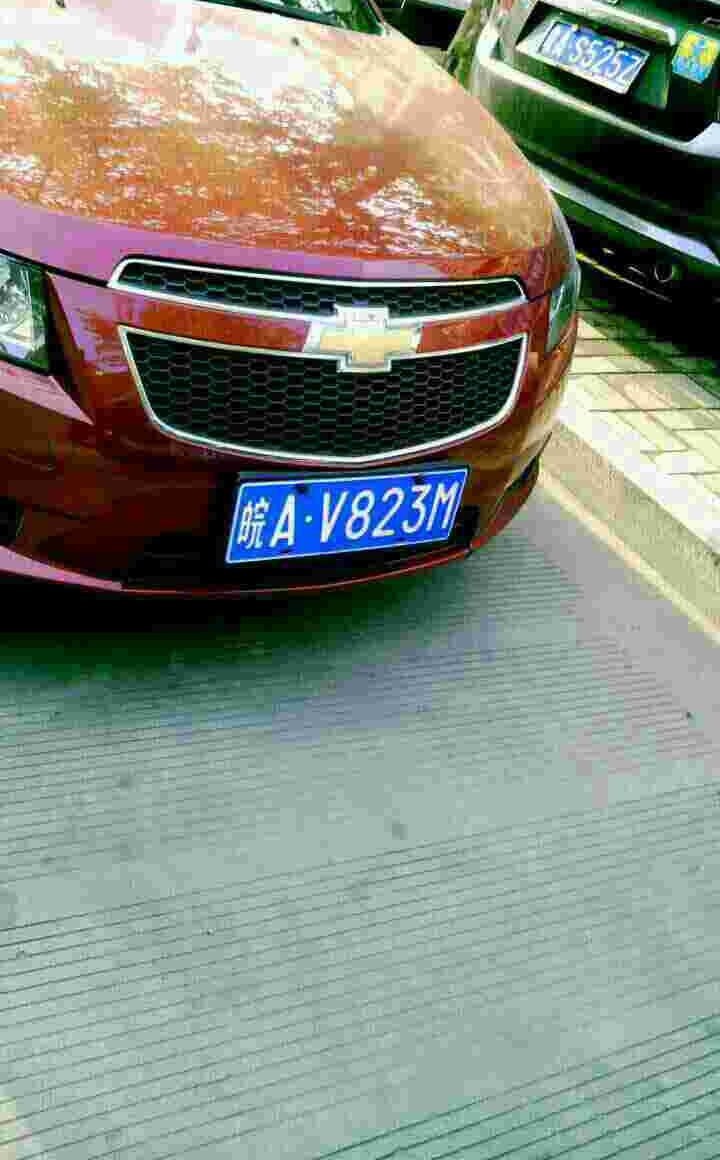license_plate: (229, 472, 461, 570)
